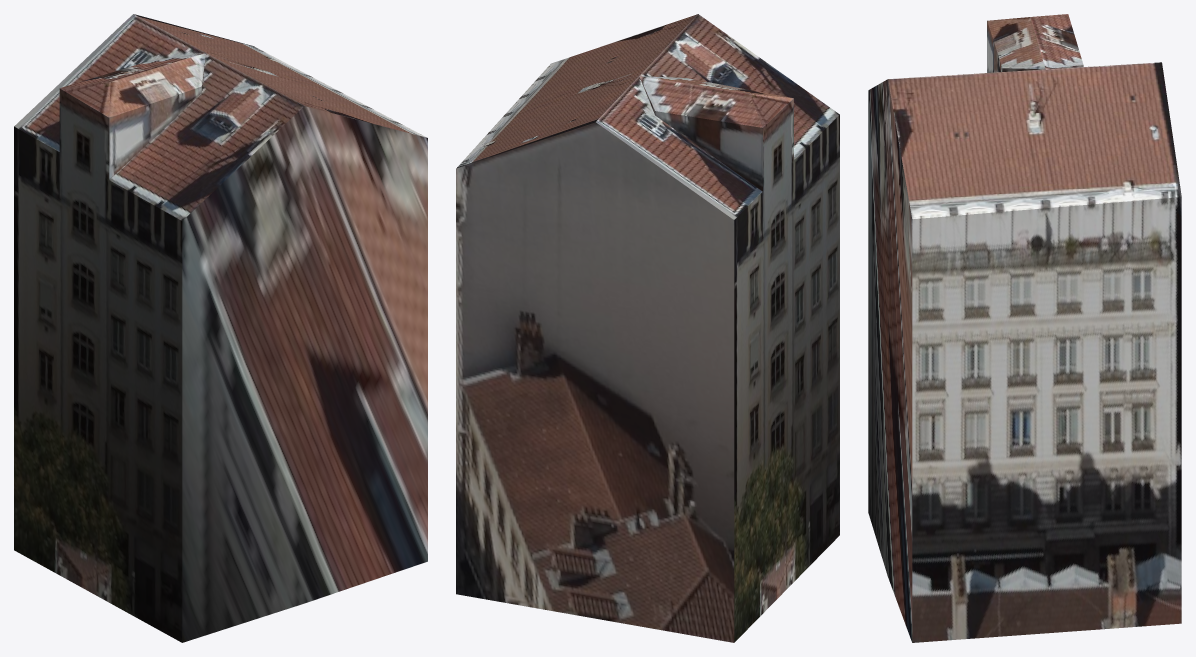
The picture shows the model from 3 angles, left to right: view 1: azimuth 30°, elevation 25°; view 2: azimuth 150°, elevation 25°; view 3: azimuth 270°, elevation 25°; orthographic projection.
Parts seen in each view (by area): view 1: Z_UP; view 2: Z_UP; view 3: Z_UP.
Boxes of the visible parts, <box> form: Z_UP: <box>14,14,427,642</box>; Z_UP: <box>456,14,839,642</box>; Z_UP: <box>868,14,1181,642</box>.
Bounding box in the file's own units: 16.8 × 26.83 × 15.26.
2 materials, 1 textured.
